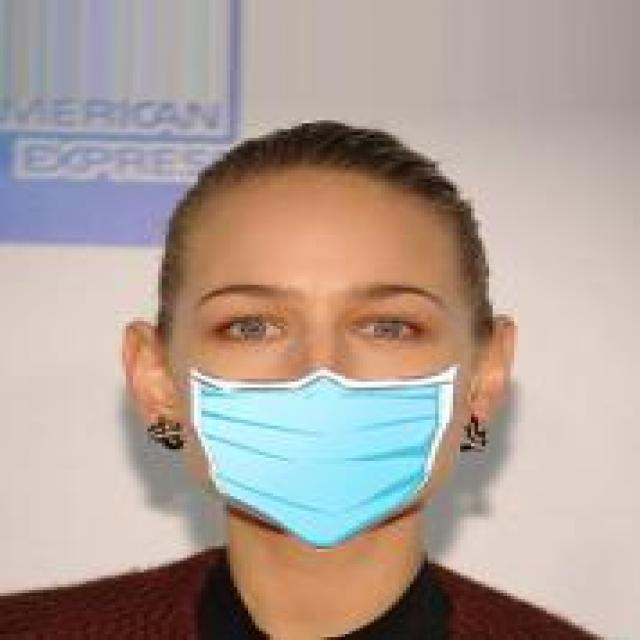mask: (108, 94, 539, 549)
